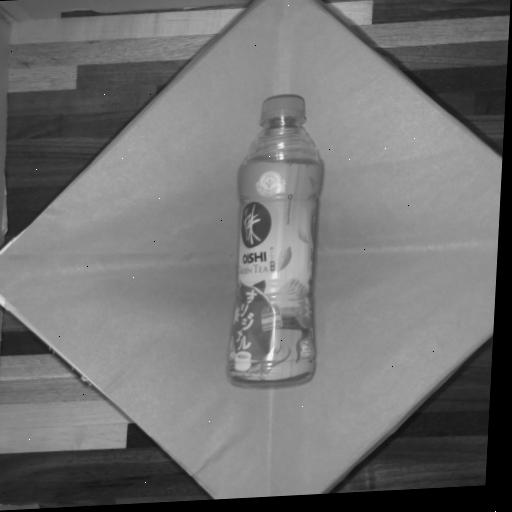bottle: (228, 94, 322, 384)
